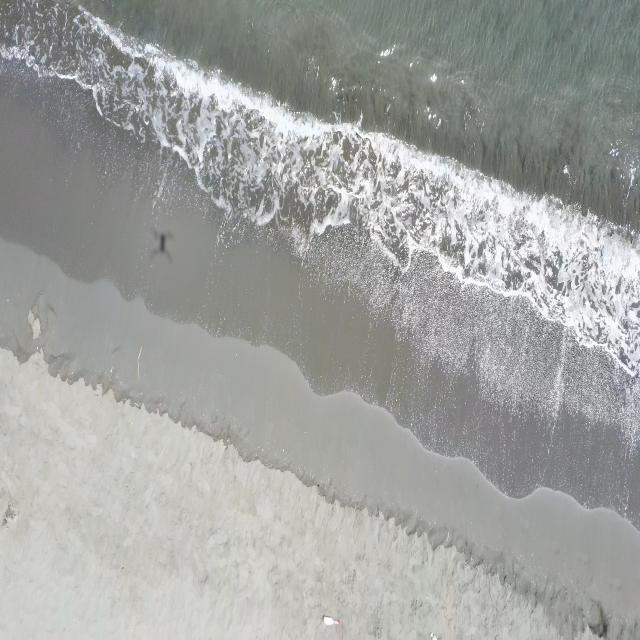plastic-bottle: (322, 616, 339, 628), (429, 629, 441, 640)
